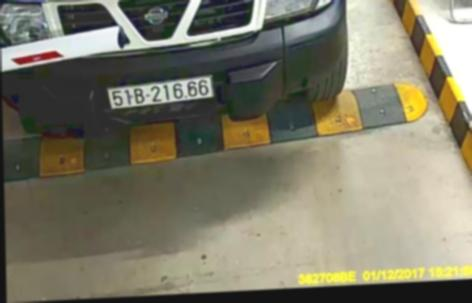License_Plate: (104, 75, 214, 111)
